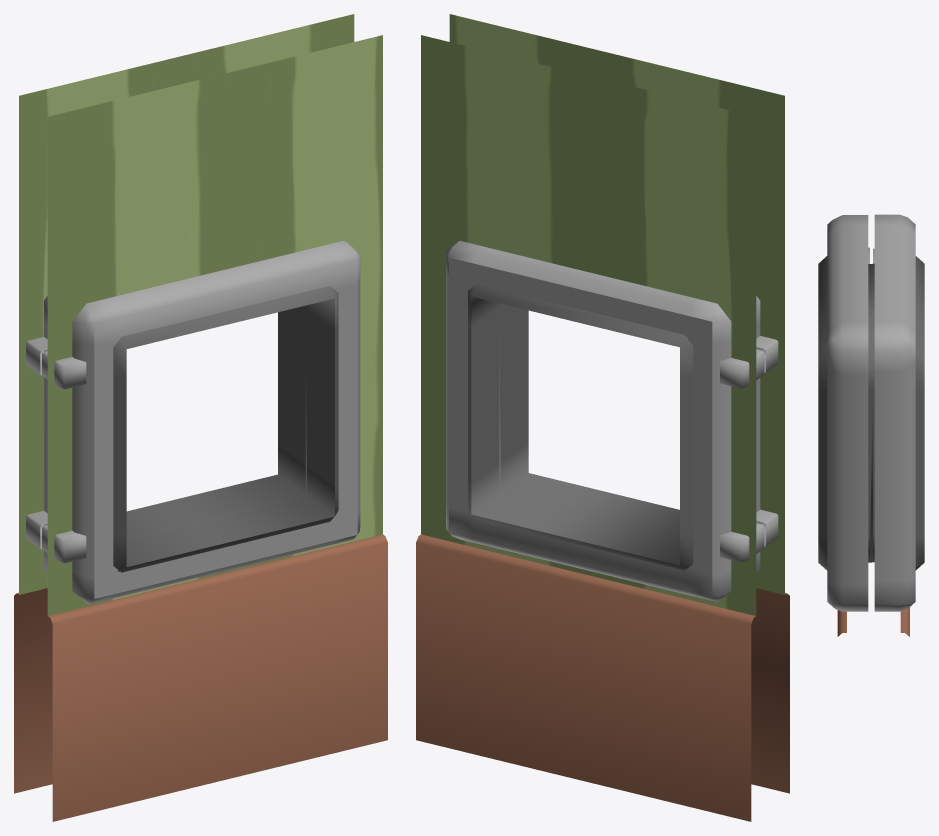
The model's file is open trapp.fbx.
3 views of the same model, side by side, from view 1: azimuth 30°, elevation 25°; view 2: azimuth 150°, elevation 25°; view 3: azimuth 270°, elevation 25° (orthographic). The views are drawn at different scales.
Visible parts, largest first — view 1: Cube.001, TRAPP, Cube.002; view 2: Cube.002, TRAPP, Cube.001; view 3: TRAPP, Cube.002, Cube.001.
Part boxes in pixels (<box>): Cube.001: <box>47,35,387,821</box>; TRAPP: <box>26,240,360,603</box>; Cube.002: <box>14,14,354,793</box>; Cube.002: <box>416,35,756,821</box>; TRAPP: <box>446,241,778,601</box>; Cube.001: <box>449,14,789,793</box>; TRAPP: <box>818,214,924,611</box>; Cube.002: <box>900,607,909,636</box>; Cube.001: <box>837,610,846,636</box>.
Size of the model in its own units: 300 by 600 by 88.49.
